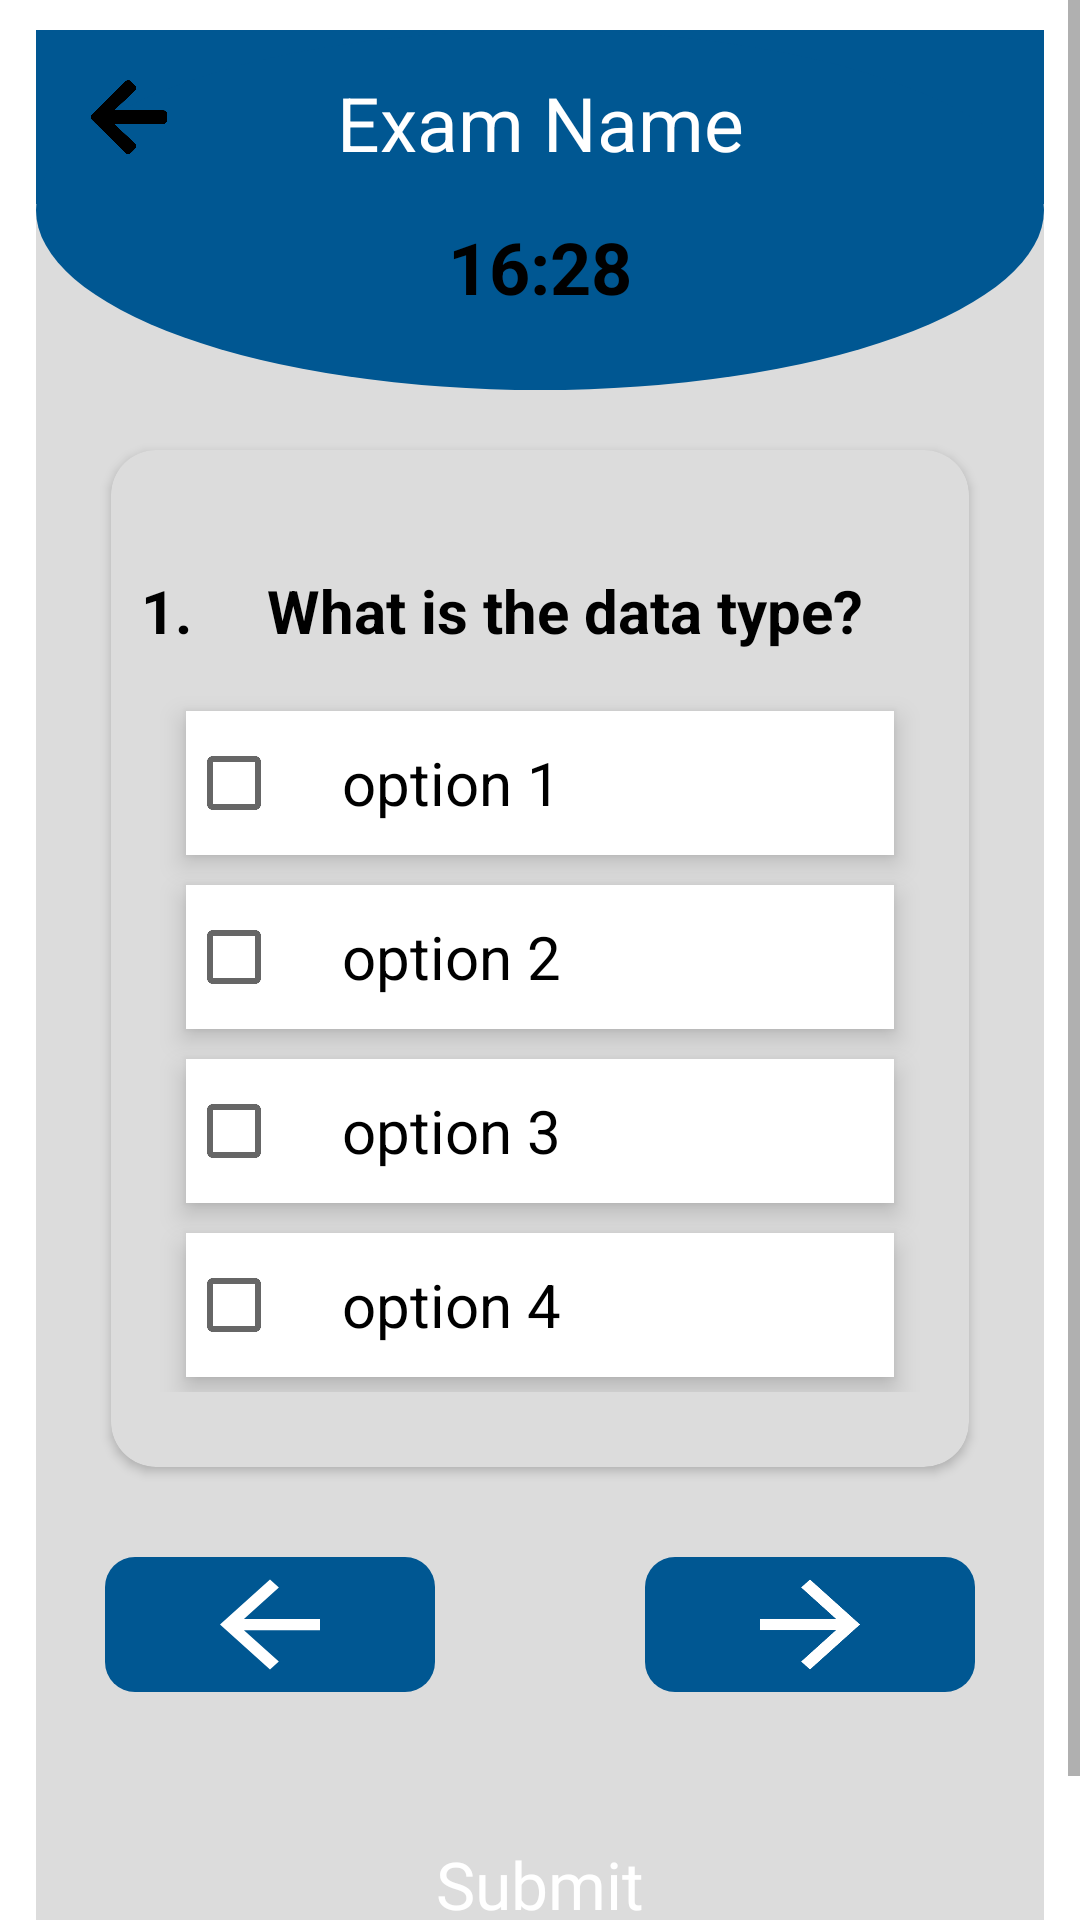

Icon bounding boxes for this 1080px×1920px phone screenshot, format (x1, y1, x2, y2):
arrow back: (105, 1557, 435, 1692)
arrow forward: (645, 1557, 975, 1692)
back: (91, 80, 167, 154)
